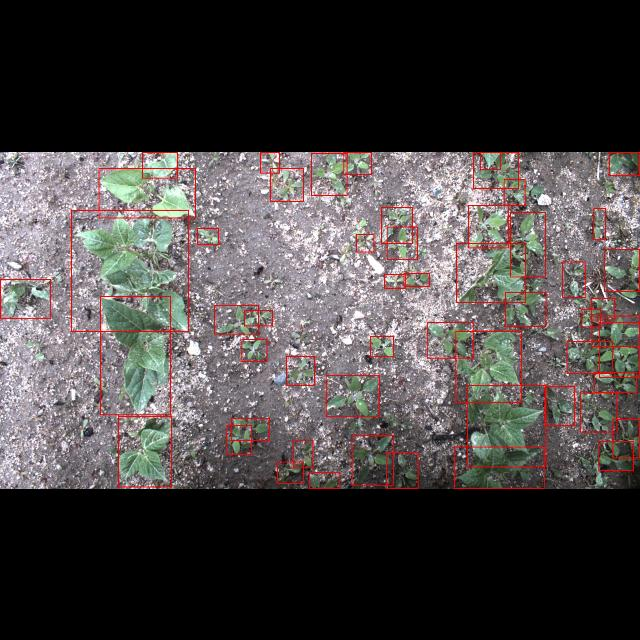crop: (72, 210, 188, 330), (100, 296, 170, 414), (468, 385, 546, 467), (99, 167, 195, 217), (455, 331, 521, 402), (456, 242, 526, 302), (118, 416, 172, 486), (454, 446, 544, 488), (142, 151, 178, 177), (480, 152, 500, 168)
weed: (510, 212, 546, 276), (326, 374, 379, 416), (599, 322, 639, 376), (352, 435, 394, 485), (0, 278, 50, 318), (468, 205, 508, 248), (427, 321, 473, 357), (474, 151, 518, 187), (580, 392, 618, 432), (311, 152, 347, 194), (604, 248, 640, 290), (566, 341, 612, 373), (592, 316, 638, 346), (506, 291, 546, 325), (214, 304, 258, 334), (545, 385, 575, 425), (387, 452, 418, 488), (270, 168, 304, 200), (382, 206, 412, 242), (598, 442, 634, 471), (613, 418, 639, 458), (387, 226, 417, 258), (286, 355, 314, 385), (594, 372, 636, 392), (231, 418, 269, 440), (562, 262, 586, 296), (226, 426, 252, 454), (609, 152, 639, 174), (344, 151, 372, 173), (293, 440, 313, 468), (242, 339, 266, 361), (504, 178, 524, 204), (277, 462, 303, 482), (592, 297, 614, 319), (310, 472, 340, 488), (371, 336, 394, 356), (244, 310, 272, 326), (260, 152, 280, 172), (594, 207, 606, 239), (404, 272, 430, 286), (198, 228, 218, 245), (582, 308, 600, 326), (356, 233, 374, 251), (384, 274, 406, 288)
